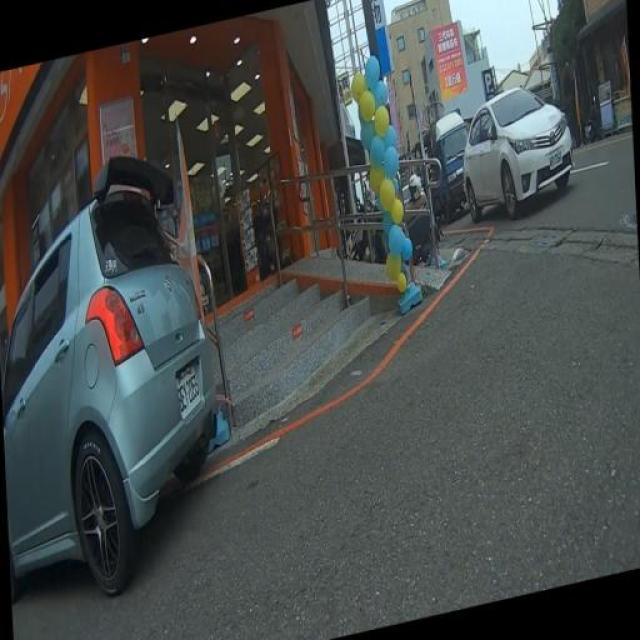Legalparking: (16, 66, 609, 598)
